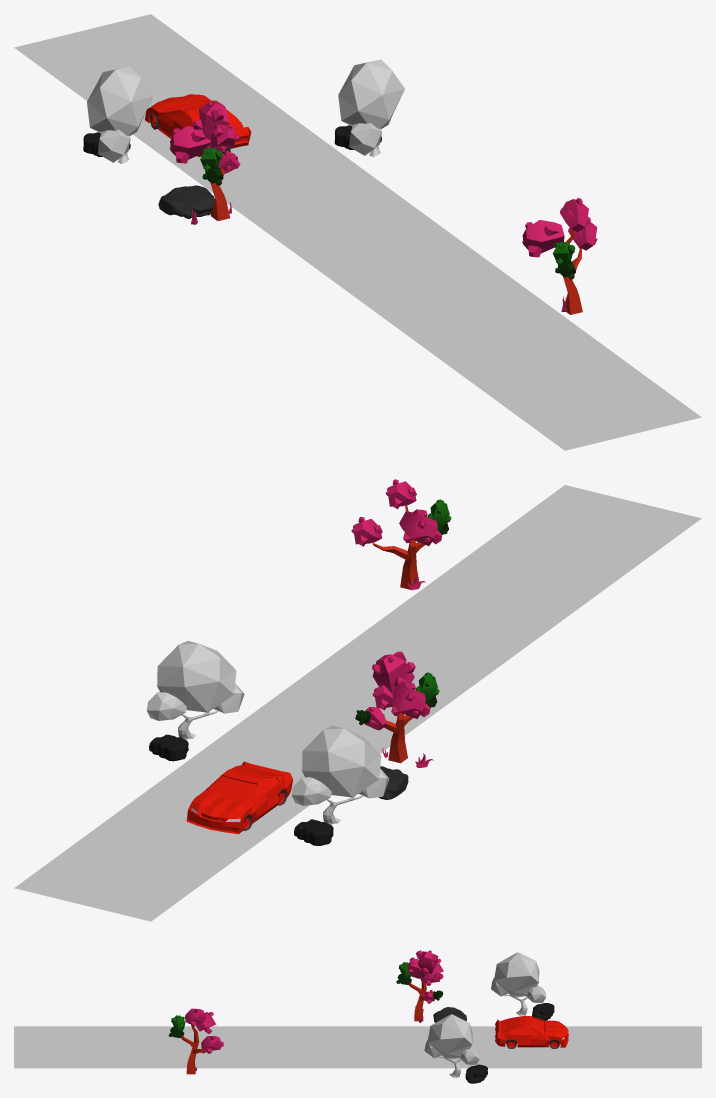
3 renders of one model, top to bottom at view 1: azimuth 30°, elevation 25°; view 2: azimuth 150°, elevation 25°; view 3: azimuth 270°, elevation 25°, orthographic. The views are drawn at different scales.
Parts seen in each view (by area): view 1: Plane, yaprak1_Icosphere.002, yaprak1.001_Icosphere.003, Cube, Rock07, BranchesCBranchesuBranchesbBrancheseBranches.Branches0Branc.007_, BranchesCBranchesuBranchesbBrancheseBranches.Branches0Branc.005_, yaprak3.001_Icosphere.005, yaprak3_Icosphere, BranchesCBranchesuBranchesbBrancheseBranches.Branches0Branc.004_, BranchesCBranchesuBranchesbBrancheseBranches.Branches0Branc.006_; view 2: Plane, Cube, yaprak1_Icosphere.002, yaprak1.001_Icosphere.003, BranchesCBranchesuBranchesbBrancheseBranches.Branches0Branc.007_, BranchesCBranchesuBranchesbBrancheseBranches.Branches0Branc.004_, BranchesCBranchesuBranchesbBrancheseBranches.Branches0Branc.005_, Trunk.001_Plane.009, yaprak2.001_Icosphere.004, yaprak2_Icosphere.001, CavePlatform2-1, CavePlatform2-1.001 (+1 smaller); view 3: Plane, Cube, yaprak1.001_Icosphere.003, yaprak1_Icosphere.002, Trunk.001_Plane.009, BranchesCBranchesuBranchesbBrancheseBranches.Branches0Branc.004_, CavePlatform2-1, Trunk_Plane.007, CavePlatform2-1.001, BranchesCBranchesuBranchesbBrancheseBranches.Branches0Branc.006_, Rock07, BranchesCBranchesuBranchesbBrancheseBranches.Branches0Branc.008_ (+5 smaller).
Part boxes in pixels (x1=…): Plane: x1=14, y1=14, x2=701, y2=450; yaprak1_Icosphere.002: x1=338, y1=59, x2=404, y2=128; yaprak1.001_Icosphere.003: x1=87, y1=66, x2=153, y2=135; Cube: x1=145, y1=94, x2=251, y2=156; Rock07: x1=158, y1=185, x2=214, y2=218; BranchesCBranchesuBranchesbBrancheseBranches.Branches0Branc.007_: x1=522, y1=220, x2=564, y2=257; BranchesCBranchesuBranchesbBrancheseBranches.Branches0Branc.005_: x1=169, y1=126, x2=210, y2=163; yaprak3.001_Icosphere.005: x1=97, y1=129, x2=130, y2=162; yaprak3_Icosphere: x1=349, y1=122, x2=381, y2=155; BranchesCBranchesuBranchesbBrancheseBranches.Branches0Branc.004_: x1=193, y1=101, x2=229, y2=139; BranchesCBranchesuBranchesbBrancheseBranches.Branches0Branc.006_: x1=560, y1=198, x2=588, y2=231; Plane: x1=14, y1=485, x2=701, y2=921; Cube: x1=186, y1=761, x2=292, y2=834; yaprak1_Icosphere.002: x1=157, y1=641, x2=236, y2=712; yaprak1.001_Icosphere.003: x1=302, y1=725, x2=381, y2=797; BranchesCBranchesuBranchesbBrancheseBranches.Branches0Branc.007_: x1=399, y1=509, x2=441, y2=545; BranchesCBranchesuBranchesbBrancheseBranches.Branches0Branc.004_: x1=372, y1=651, x2=406, y2=693; BranchesCBranchesuBranchesbBrancheseBranches.Branches0Branc.005_: x1=390, y1=682, x2=430, y2=718; Trunk.001_Plane.009: x1=372, y1=504, x2=424, y2=590; yaprak2.001_Icosphere.004: x1=291, y1=776, x2=331, y2=805; yaprak2_Icosphere.001: x1=146, y1=692, x2=186, y2=720; CavePlatform2-1: x1=149, y1=734, x2=188, y2=761; CavePlatform2-1.001: x1=294, y1=819, x2=333, y2=845; Plane: x1=14, y1=1026, x2=701, y2=1068; Cube: x1=495, y1=1015, x2=568, y2=1048; yaprak1.001_Icosphere.003: x1=494, y1=952, x2=539, y2=997; yaprak1_Icosphere.002: x1=427, y1=1014, x2=472, y2=1059; Trunk.001_Plane.009: x1=181, y1=1026, x2=206, y2=1074; BranchesCBranchesuBranchesbBrancheseBranches.Branches0Branc.004_: x1=416, y1=950, x2=438, y2=974; CavePlatform2-1: x1=465, y1=1064, x2=487, y2=1083; Trunk_Plane.007: x1=409, y1=981, x2=426, y2=1021; CavePlatform2-1.001: x1=532, y1=1003, x2=554, y2=1020; BranchesCBranchesuBranchesbBrancheseBranches.Branches0Branc.006_: x1=185, y1=1008, x2=207, y2=1026; Rock07: x1=433, y1=1007, x2=466, y2=1022; BranchesCBranchesuBranchesbBrancheseBranches.Branches0Branc.008_: x1=201, y1=1036, x2=223, y2=1053.
Bounding box in the file's own units: 10.22 × 4.38 × 36.57.
